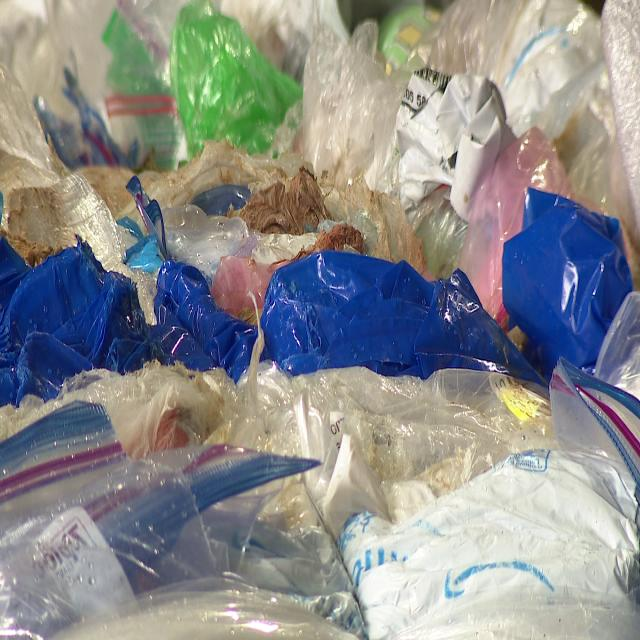Single-layer Plastic: (261, 251, 541, 382), (502, 187, 632, 378), (459, 127, 575, 331), (170, 2, 302, 156), (304, 20, 404, 196), (409, 0, 524, 81)
